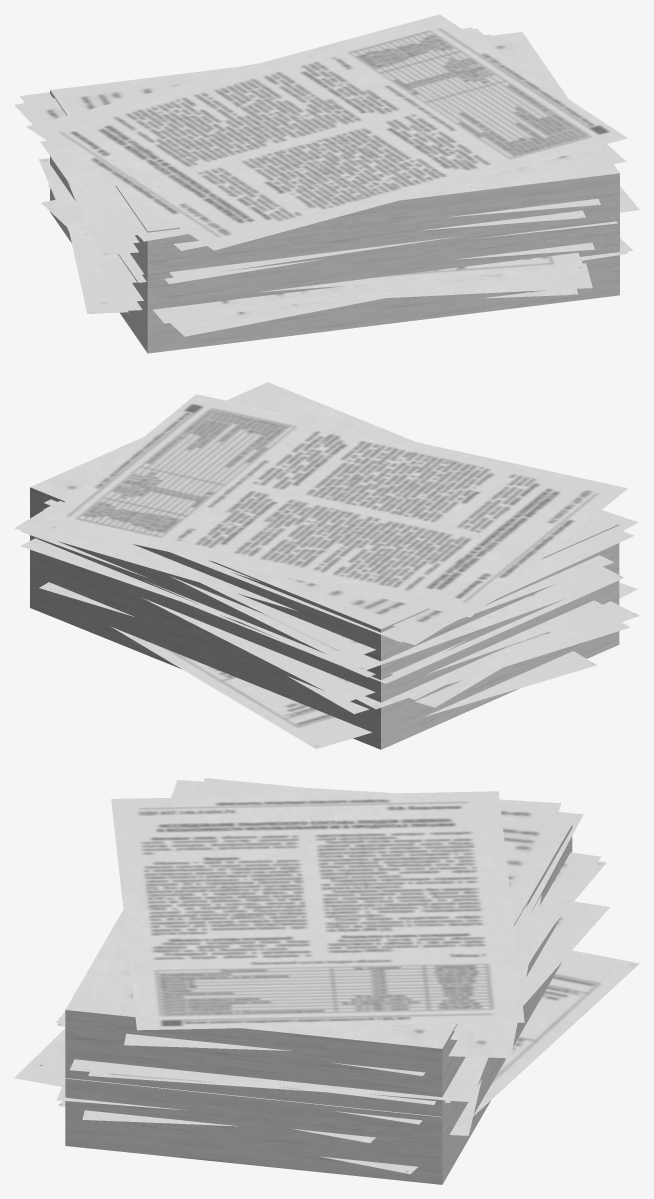
The model's file is Papeles2.fbx.
3 views of the same model, one above another, from view 1: azimuth 30°, elevation 25°; view 2: azimuth 150°, elevation 25°; view 3: azimuth 270°, elevation 25° (orthographic). The views are drawn at different scales.
Parts seen in each view (by area): view 1: Papers; view 2: Papers; view 3: Papers.
Boxes of the visible parts, x1,y1,x2,y2 form: Papers: (14, 14, 639, 353); Papers: (14, 382, 639, 749); Papers: (14, 778, 639, 1184).
Size of the model in its own units: 791 by 176 by 727.
Materials: 1 (1 with a texture image).
